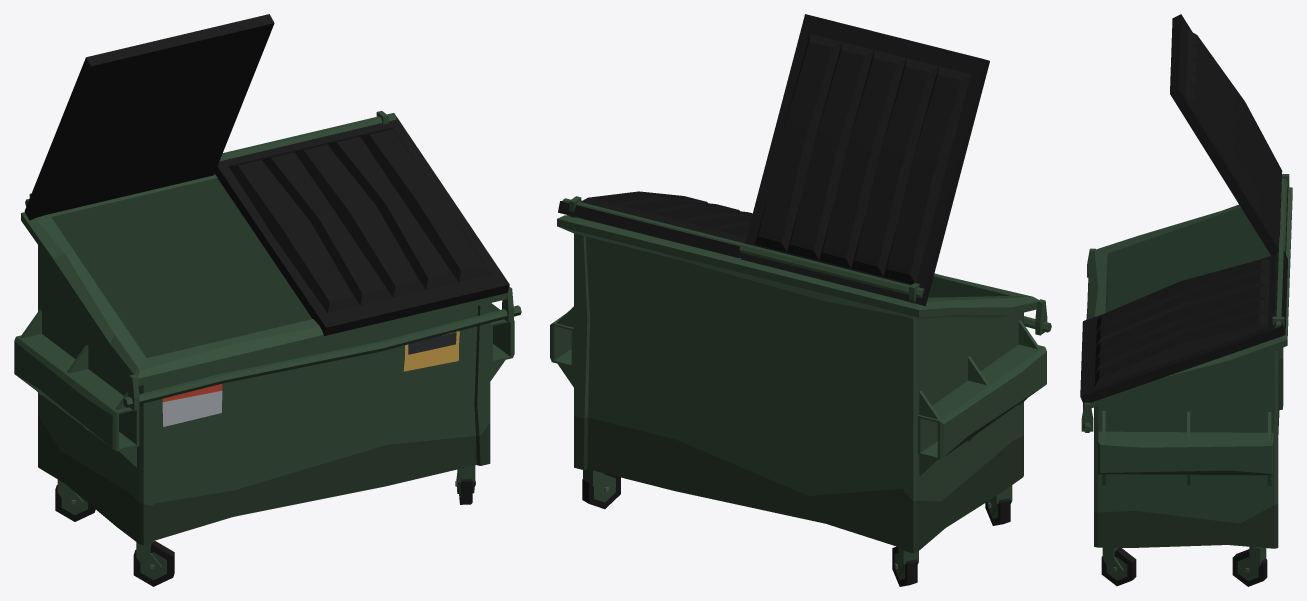
Rendered from SM_Prop_Skip_01.fbx.
3 views of the same model, side by side, from view 1: azimuth 30°, elevation 25°; view 2: azimuth 150°, elevation 25°; view 3: azimuth 270°, elevation 25° (orthographic). The views are drawn at different scales.
Visible parts, largest first — view 1: SM_Prop_Skip_01; view 2: SM_Prop_Skip_01; view 3: SM_Prop_Skip_01.
Boxes of the visible parts, x1,y1,x2,y2 form: SM_Prop_Skip_01: [14, 14, 521, 586]; SM_Prop_Skip_01: [550, 14, 1051, 586]; SM_Prop_Skip_01: [1080, 14, 1292, 586].
Bounding box in the file's own units: 243 × 292 × 131.
